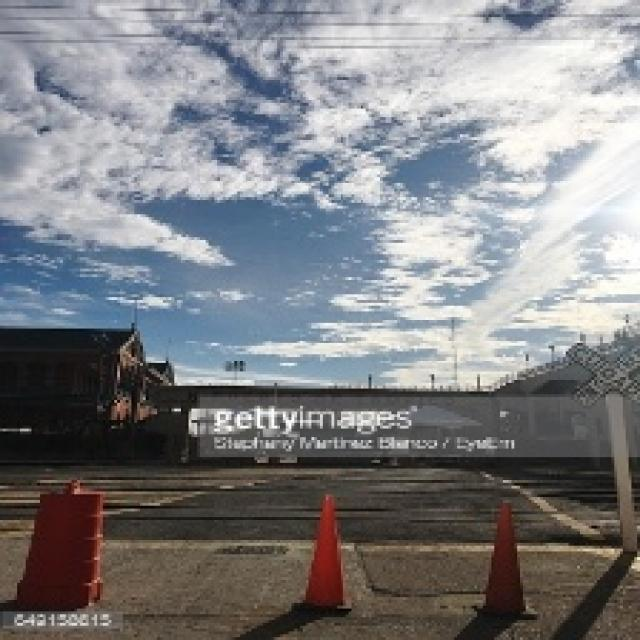traffic cone: (473, 501, 535, 620), (292, 494, 353, 612)
